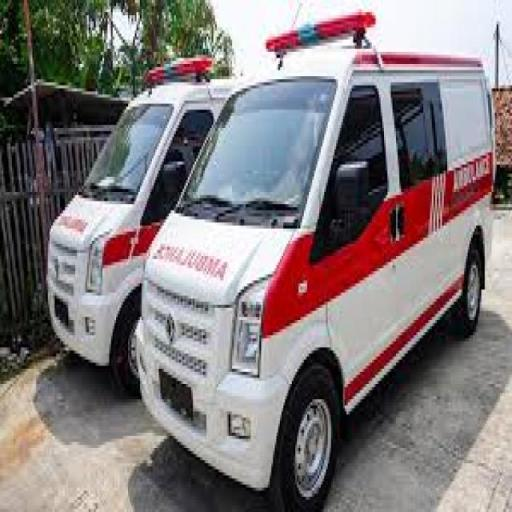Police car: (138, 9, 495, 509)
